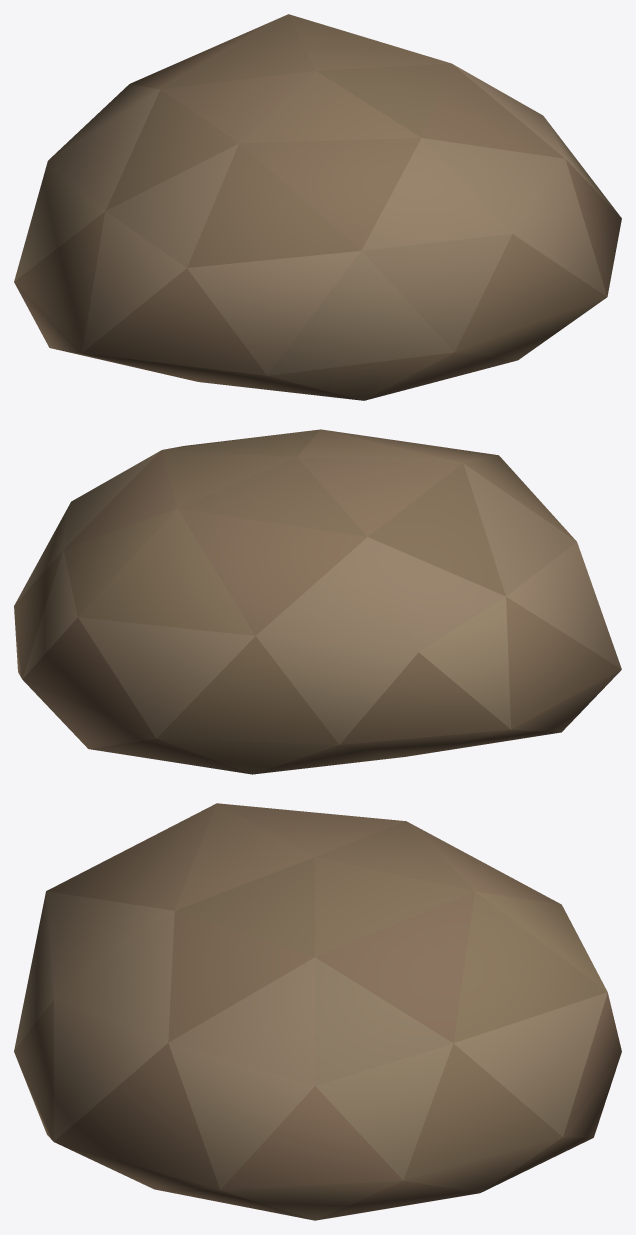
The model's file is env_sandstone_b.glb.
3 views of the same model, one above another, from view 1: azimuth 30°, elevation 25°; view 2: azimuth 150°, elevation 25°; view 3: azimuth 270°, elevation 25° (orthographic). The views are drawn at different scales.
Parts seen in each view (by area): view 1: env_sandstone_b; view 2: env_sandstone_b; view 3: env_sandstone_b.
Boxes of the visible parts, <box> form: env_sandstone_b: <box>14,14,621,400</box>; env_sandstone_b: <box>14,429,621,774</box>; env_sandstone_b: <box>14,803,621,1220</box>.
Size of the model in its own units: 1.73 by 0.7665 by 1.55.
